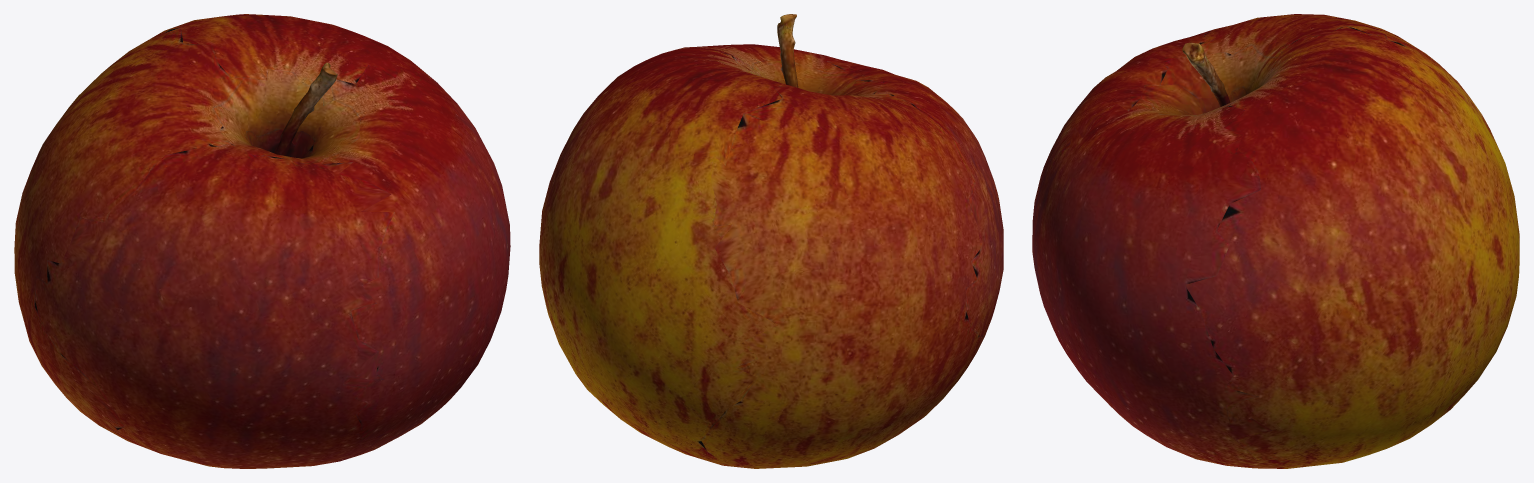
The model's file is sunfruit.glb.
The picture shows the model from 3 angles, left to right: view 1: azimuth 30°, elevation 25°; view 2: azimuth 150°, elevation 25°; view 3: azimuth 270°, elevation 25°; orthographic projection. The views are drawn at different scales.
Parts seen in each view (by area): view 1: sunfruit; view 2: sunfruit; view 3: sunfruit.
Part boxes in pixels (<box>): sunfruit: <box>14,14,510,468</box>; sunfruit: <box>539,14,1003,468</box>; sunfruit: <box>1032,14,1519,468</box>.
Size of the model in its own units: 0.8001 by 0.6997 by 0.7863.
Materials: 1 (1 with a texture image).
